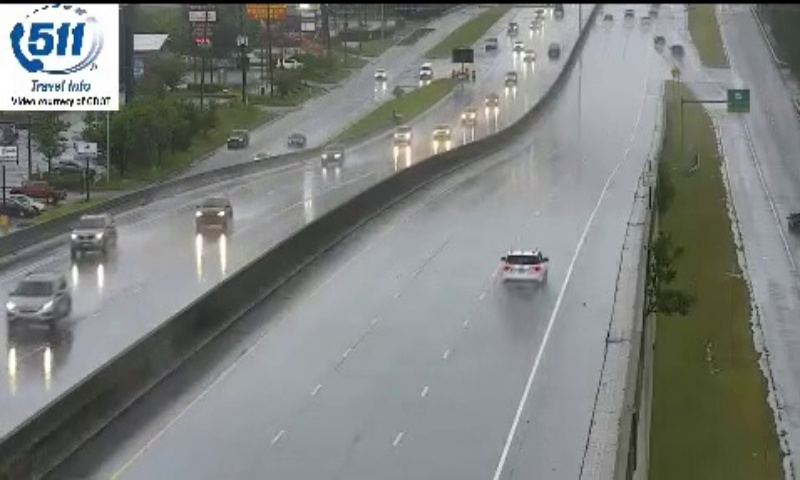car: (502, 249, 545, 285)
